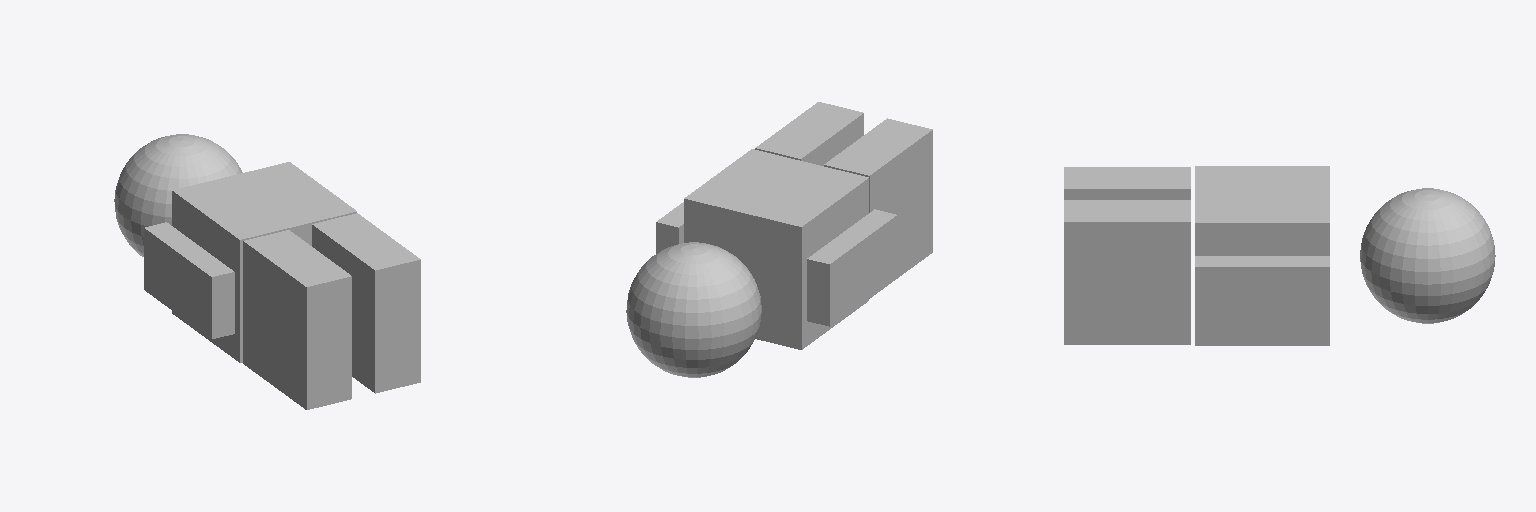
File: sporty_robot_animation_000007.obj
3 renders of one model, left to right at view 1: azimuth 30°, elevation 25°; view 2: azimuth 150°, elevation 25°; view 3: azimuth 270°, elevation 25°, orthographic.
Visible parts, largest first — view 1: Cube.002, Cube.001_Cube.005, Cube, Sphere.001, Cube.004; view 2: Cube, Sphere.001, Cube.002, Cube.004, Cube.001_Cube.005, Cube.003; view 3: Cube.001_Cube.005, Sphere.001, Cube, Cube.003, Cube.002.
Part boxes in pixels (bbox=[...]): Cube.002: bbox=[243, 230, 351, 409]; Cube.001_Cube.005: bbox=[312, 213, 420, 393]; Cube: bbox=[172, 162, 356, 362]; Sphere.001: bbox=[114, 134, 242, 256]; Cube.004: bbox=[144, 222, 234, 338]; Cube: bbox=[684, 149, 868, 349]; Sphere.001: bbox=[626, 242, 761, 377]; Cube.002: bbox=[824, 118, 932, 298]; Cube.004: bbox=[807, 209, 897, 326]; Cube.001_Cube.005: bbox=[755, 102, 863, 165]; Cube.003: bbox=[656, 202, 683, 253]; Cube.001_Cube.005: bbox=[1064, 200, 1190, 344]; Sphere.001: bbox=[1360, 188, 1495, 323]; Cube: bbox=[1195, 166, 1329, 345]; Cube.003: bbox=[1195, 256, 1329, 329]; Cube.002: bbox=[1064, 167, 1190, 199].
Bounding box in the file's own units: 0.76 × 0.514 × 1.63.